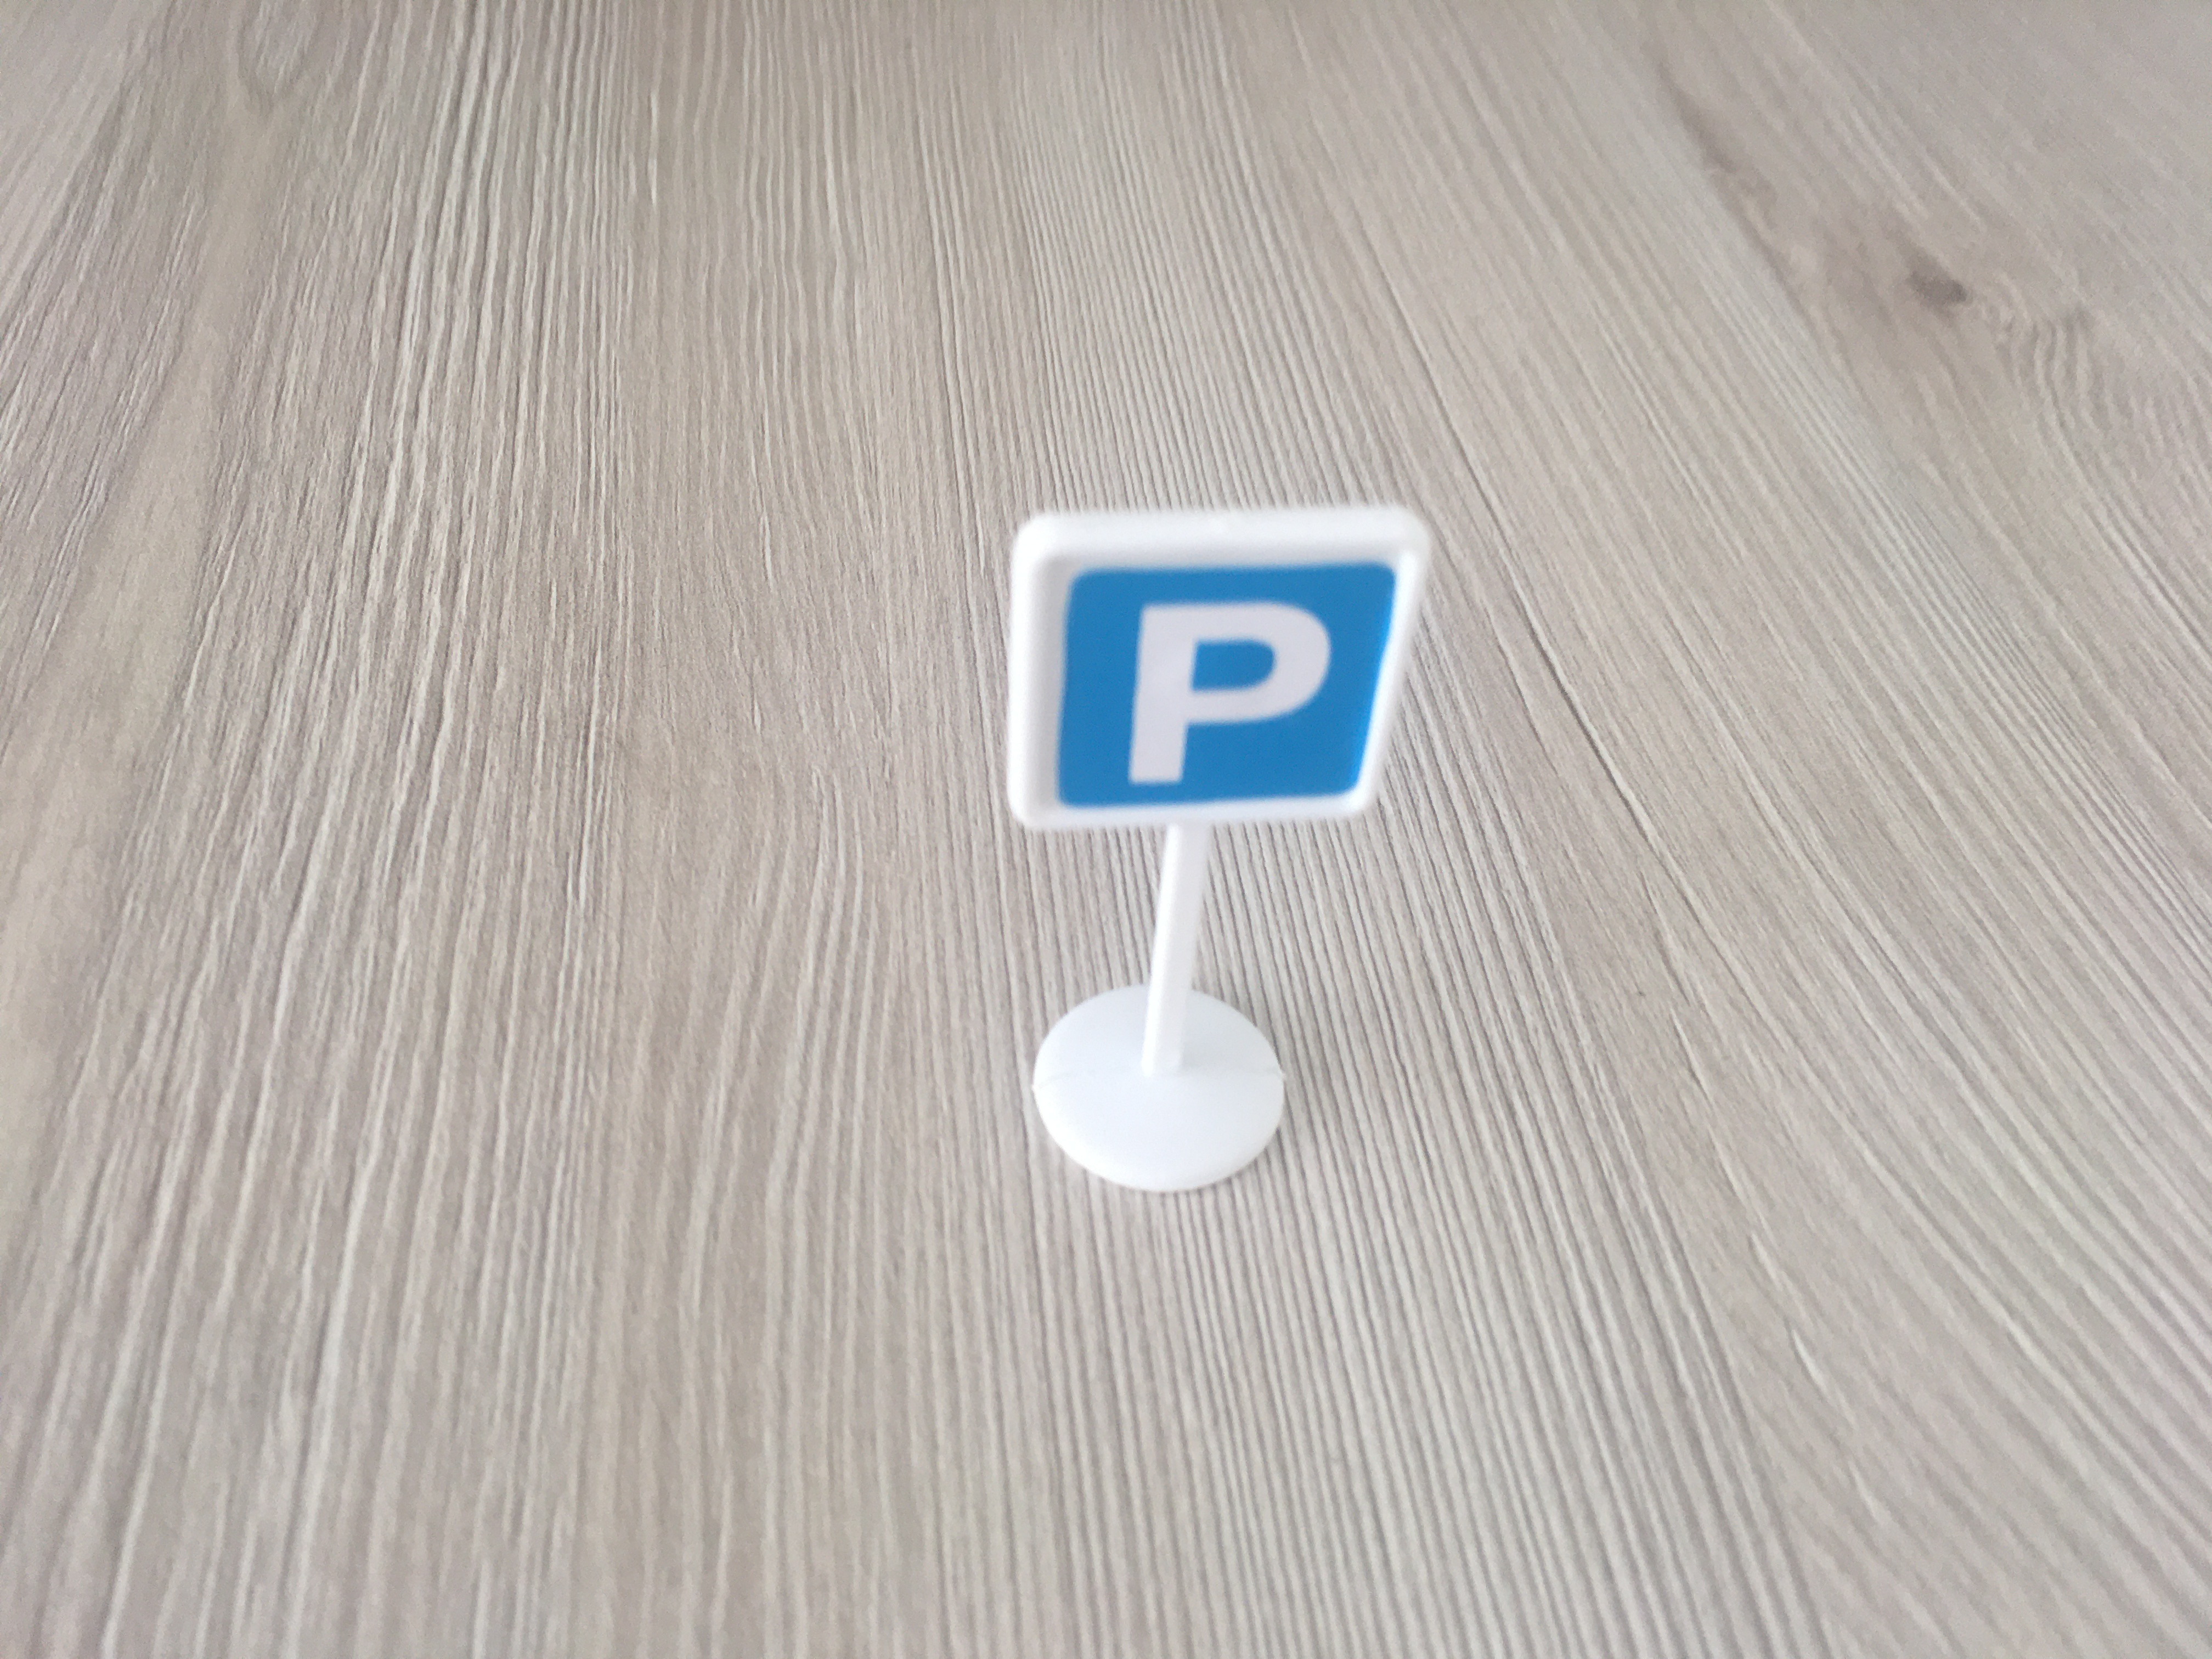parking: (1021, 521, 1409, 833)
